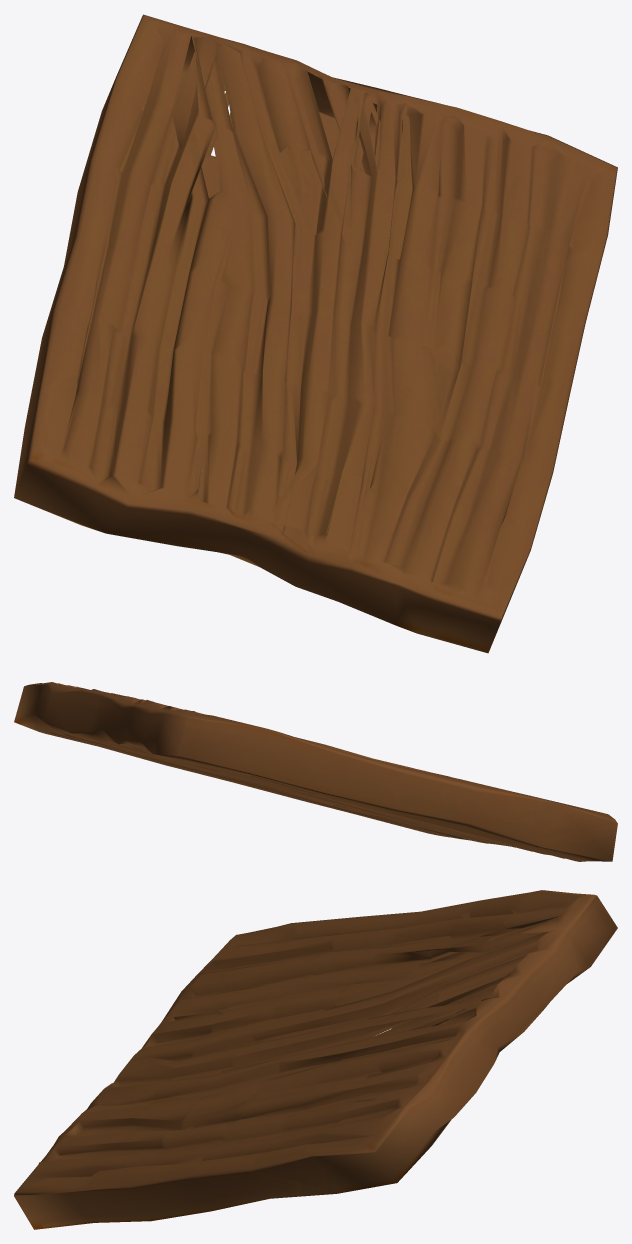
Rendered from grooved+wooden+plank+3d+model.fbx.
The picture shows the model from 3 angles, top to bottom: view 1: azimuth 30°, elevation 25°; view 2: azimuth 150°, elevation 25°; view 3: azimuth 270°, elevation 25°; orthographic projection. The views are drawn at different scales.
Parts seen in each view (by area): view 1: da6a77a8_3f94_4adb_9b15_6fae5f8e1f01; view 2: da6a77a8_3f94_4adb_9b15_6fae5f8e1f01; view 3: da6a77a8_3f94_4adb_9b15_6fae5f8e1f01.
Part boxes in pixels (x1,y1,x2,y2): da6a77a8_3f94_4adb_9b15_6fae5f8e1f01: (14, 14, 617, 653); da6a77a8_3f94_4adb_9b15_6fae5f8e1f01: (14, 682, 617, 861); da6a77a8_3f94_4adb_9b15_6fae5f8e1f01: (14, 890, 617, 1229).
Size of the model in its own units: 0.9995 by 0.5581 by 0.9224.
1 material, 1 textured.
